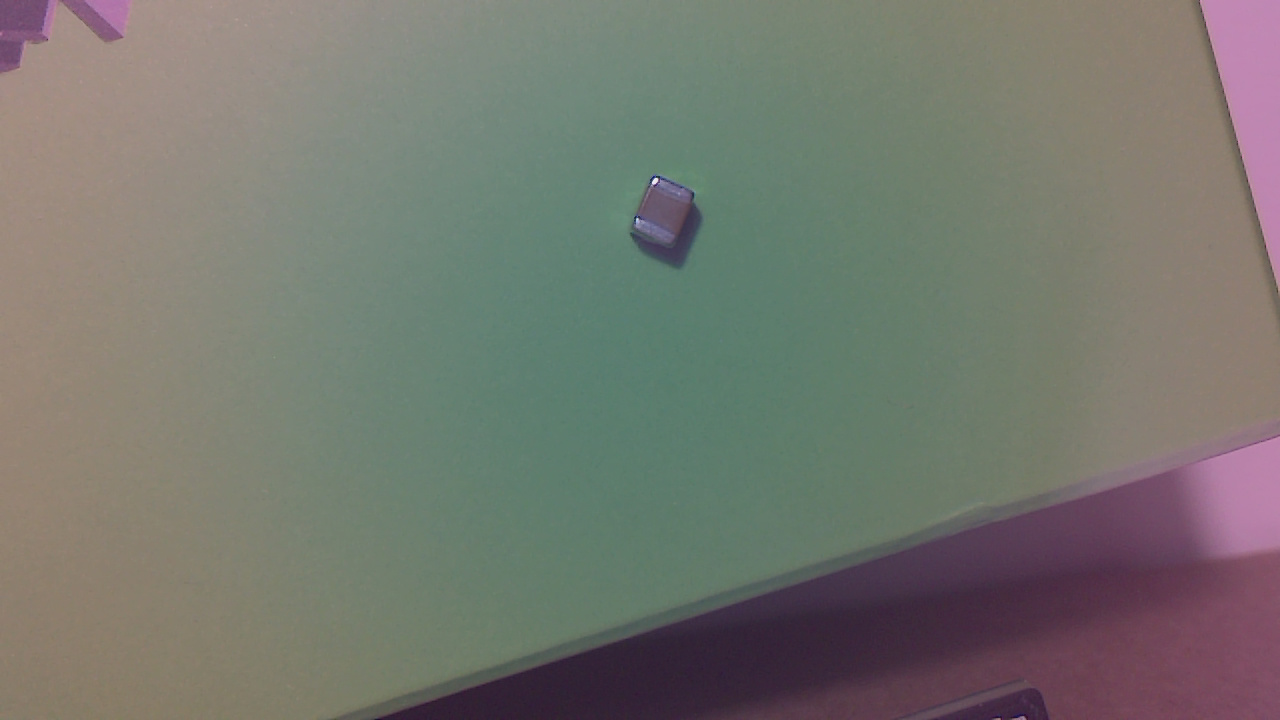Condensator: (634, 182, 702, 260)
